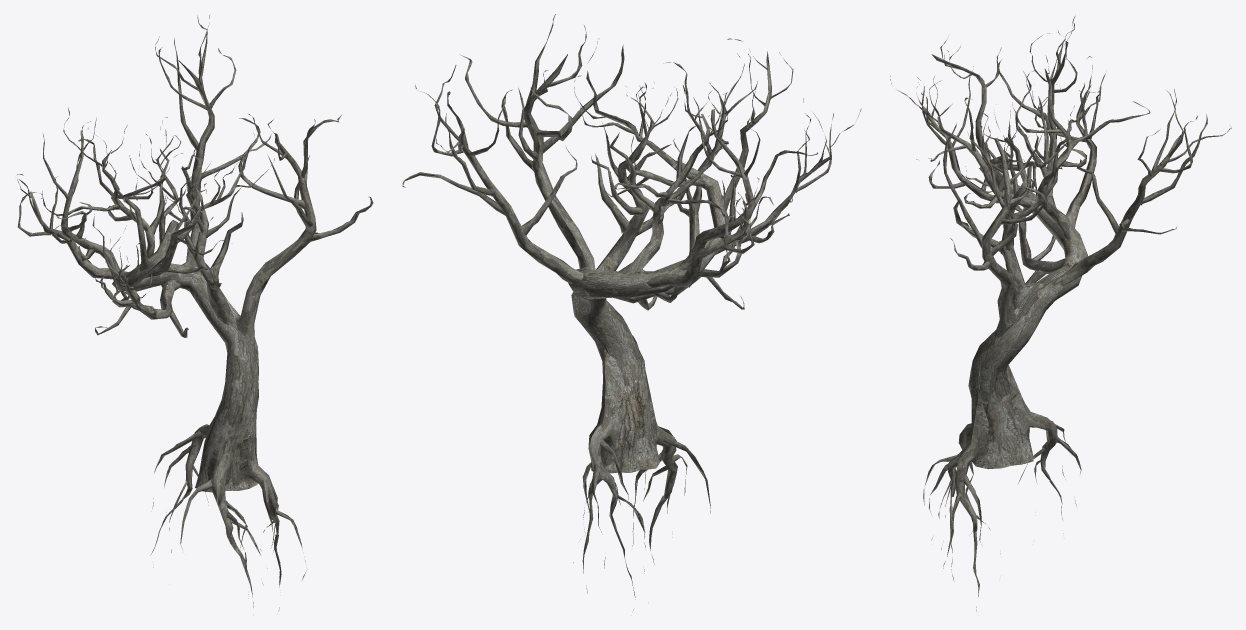
The model's file is olu_agac_b.gltf.
3 renders of one model, left to right at view 1: azimuth 30°, elevation 25°; view 2: azimuth 150°, elevation 25°; view 3: azimuth 270°, elevation 25°, orthographic. The views are drawn at different scales.
Parts seen in each view (by area): view 1: olu_agac_b; view 2: olu_agac_b; view 3: olu_agac_b.
Part boxes in pixels (left/top/right/bottom): olu_agac_b: left=17, top=14, right=373, bottom=611; olu_agac_b: left=402, top=14, right=861, bottom=610; olu_agac_b: left=890, top=16, right=1231, bottom=610.
Bounding box in the file's own units: 2.42 × 4.07 × 2.35.
Materials: 1 (1 with a texture image).
